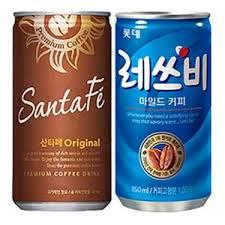letsbe: (115, 9, 216, 213)
